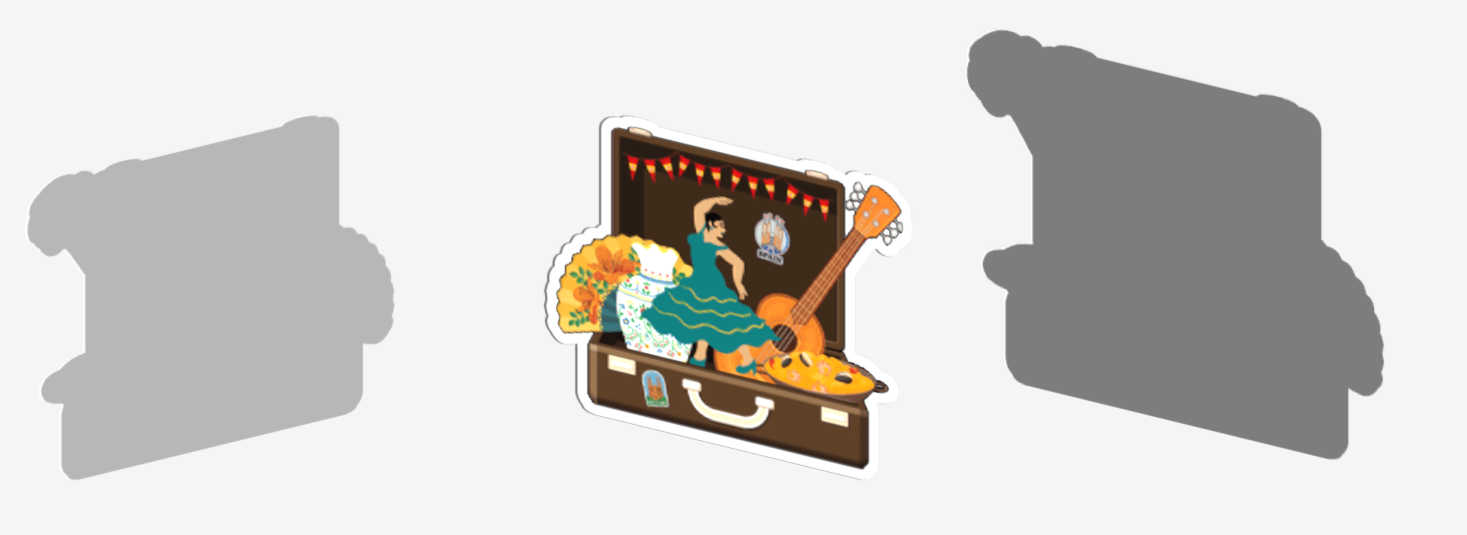
The model's file is mdl_bonus_sticker_sp.gltf.
3 views of the same model, side by side, from view 1: azimuth 30°, elevation 25°; view 2: azimuth 150°, elevation 25°; view 3: azimuth 330°, elevation 25° (orthographic). The views are drawn at different scales.
Parts seen in each view (by area): view 1: Plane.006; view 2: Plane.006; view 3: Plane.006.
Boxes of the visible parts, box(x1,y1,x2,y2) form: Plane.006: box(25, 115, 394, 480); Plane.006: box(543, 115, 912, 480); Plane.006: box(964, 28, 1383, 459).
Bounding box in the file's own units: 0.0715 × 0.065 × 3.91e-05.
2 materials, 2 textured.
